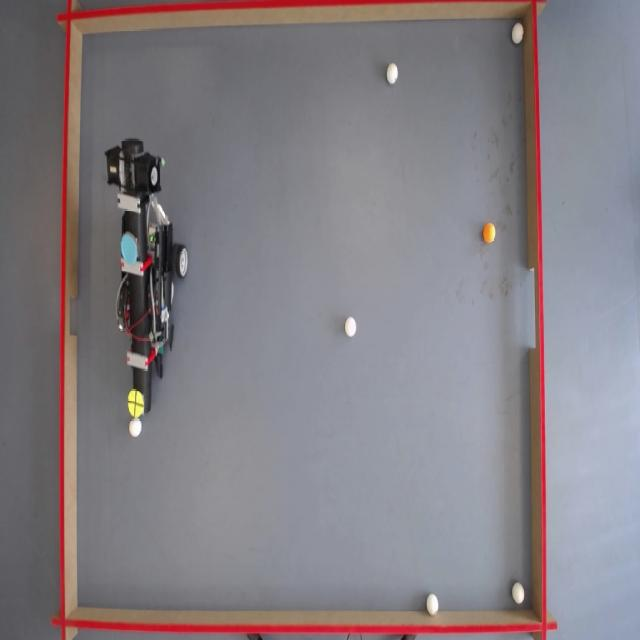orange: (483, 223, 498, 243)
robot: (108, 137, 190, 420)
robot-front: (128, 390, 146, 419)
robot-rear: (121, 235, 141, 265)
white: (513, 584, 527, 606), (512, 24, 526, 46), (426, 593, 440, 615), (386, 64, 399, 85), (128, 418, 142, 437), (345, 316, 357, 338)
